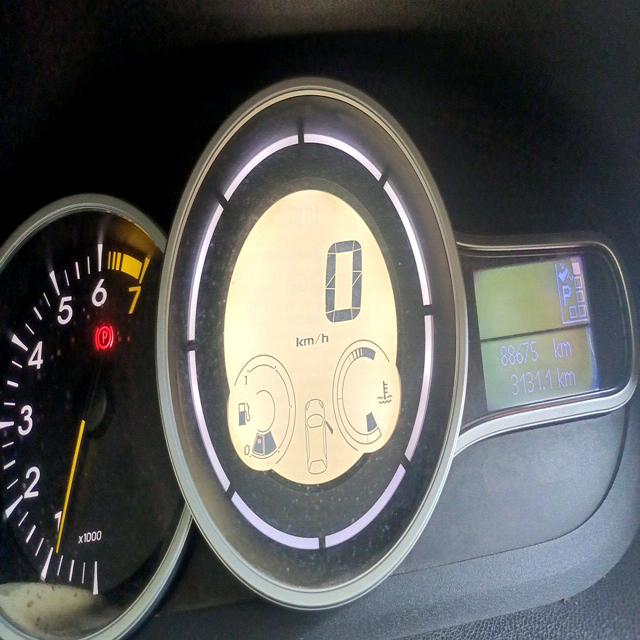odometer: (494, 335, 542, 372)
